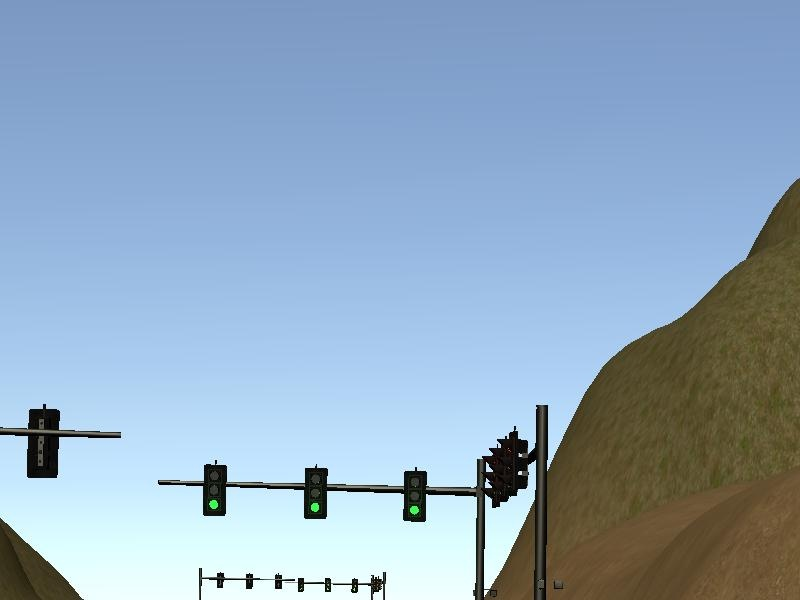green: (203, 463, 228, 517), (402, 470, 427, 522), (304, 468, 327, 520)
